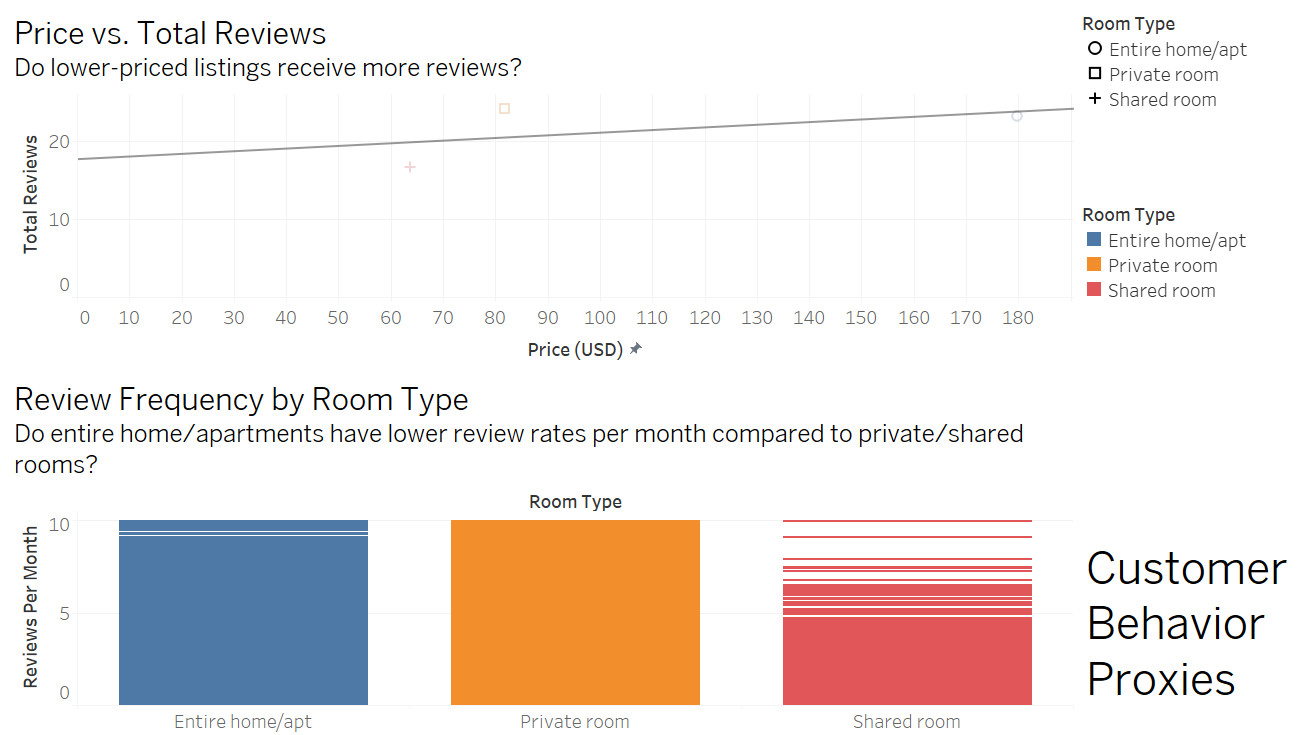

This screenshot's page, from the dashboard's own definition file:
{"tool":"tableau","page":{"name":"Dashboard 3","canvas":[1000,1000],"units":"permille","ordinal":2},"visuals":[{"type":"worksheet","title":"Sheet 6","mark":"Automatic","rows":["number_of_reviews"],"cols":["price"],"box":[6.1,10.7,812.1,489.3]},{"type":"legend","title":"Sheet 6","param":"[federated.0ehuq190u02xrj1abzuu80uqy7lj].[none:room_type:nk]","box":[818.2,10.7,175.8,255.7]},{"type":"legend","title":"Sheet 6","param":"[federated.0ehuq190u02xrj1abzuu80uqy7lj].[none:room_type:nk]","box":[818.2,266.4,175.8,453.8]},{"type":"worksheet","title":"Sheet 7","mark":"Automatic","rows":["reviews_per_month"],"cols":["room_type"],"box":[6.1,500,812.1,489.3]},{"type":"text","box":[818.2,720.2,175.8,235.6]}]}

Visuals, with their boxes on the dashboard's canvas, which has no fixed pixel size, in thousandths of its width and height (x1, y1, x2, y2). These are canvas units, not pixel positions in the 1297x735 screenshot, which may show the page scaled, cropped or inside an application window:
"Sheet 6" worksheet: region(6, 11, 818, 500)
"Sheet 6" legend: region(818, 11, 994, 266)
"Sheet 6" legend: region(818, 266, 994, 720)
"Sheet 7" worksheet: region(6, 500, 818, 989)
text: region(818, 720, 994, 956)
